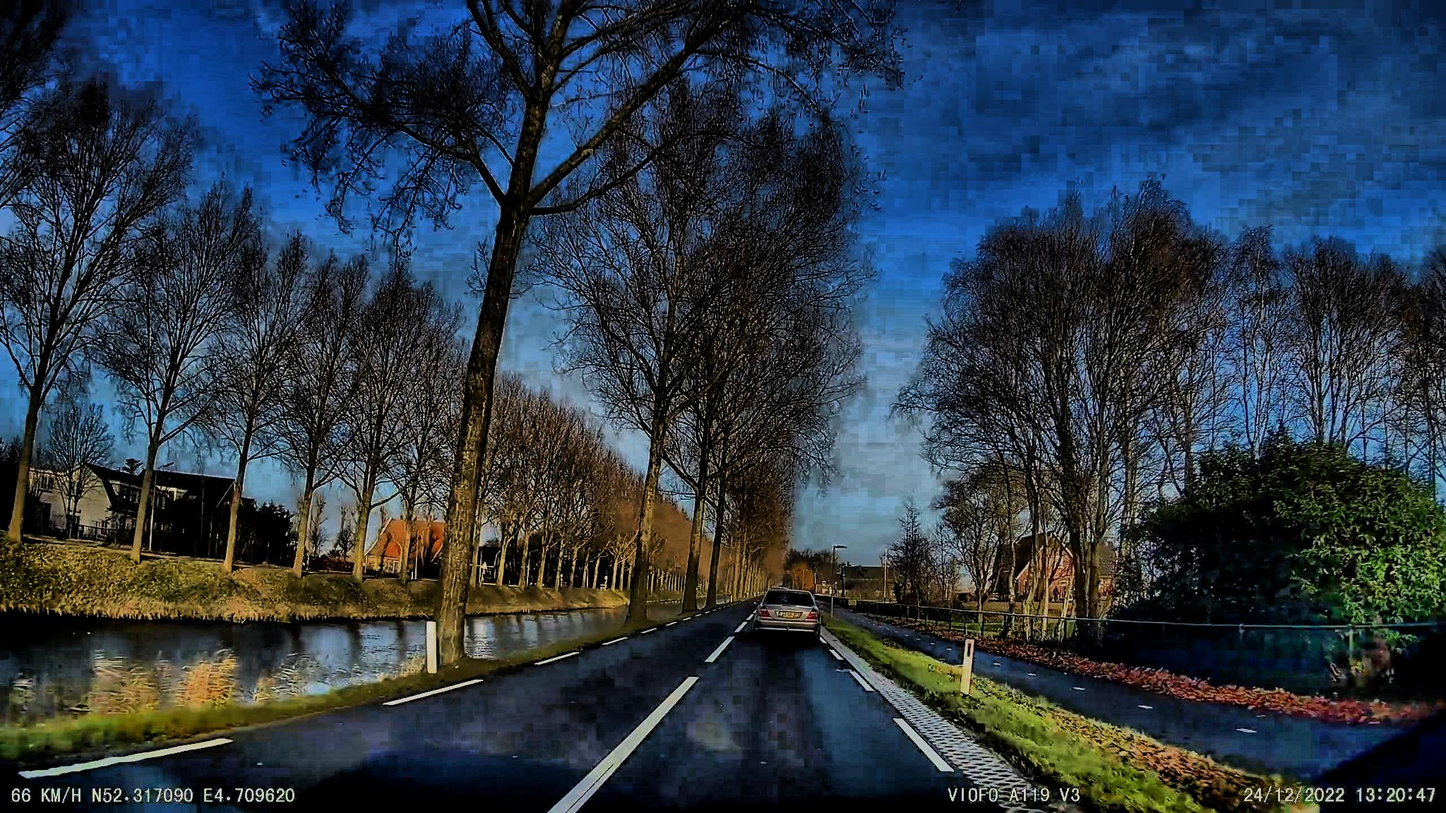Roads: (0, 610, 1097, 813)
